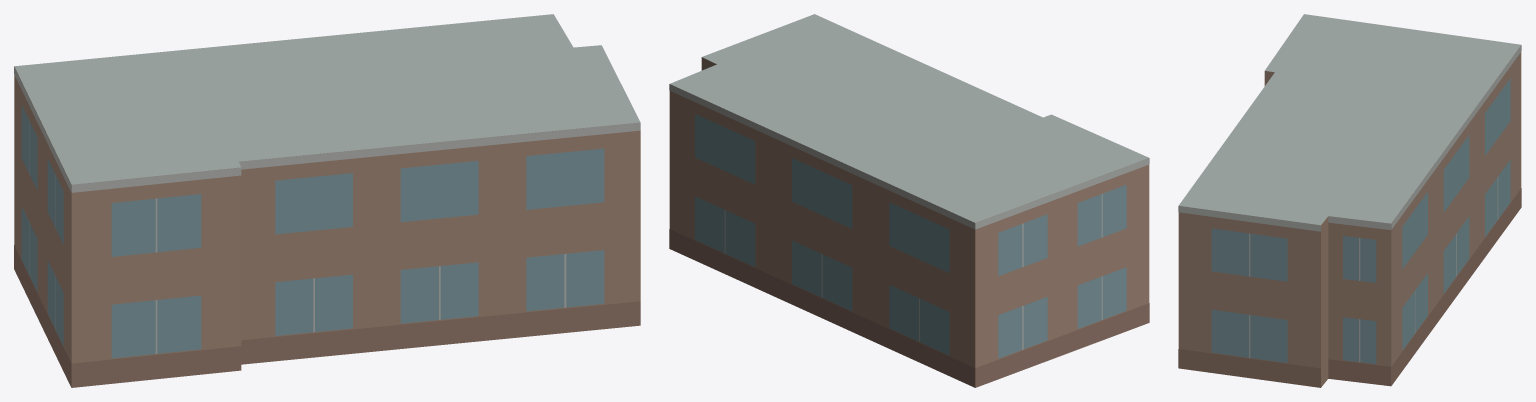
Rendered from survey-upis-32678326.glb.
3 views of the same model, side by side, from view 1: azimuth 30°, elevation 25°; view 2: azimuth 150°, elevation 25°; view 3: azimuth 270°, elevation 25° (orthographic). The views are drawn at different scales.
Visible parts, largest first — view 1: survey-upis-32678326.tmp; view 2: survey-upis-32678326.tmp; view 3: survey-upis-32678326.tmp.
Part boxes in pixels (x1=…): survey-upis-32678326.tmp: x1=14, y1=14, x2=640, y2=387; survey-upis-32678326.tmp: x1=669, y1=14, x2=1149, y2=387; survey-upis-32678326.tmp: x1=1178, y1=14, x2=1521, y2=387.
Bounding box in the file's own units: 17.01 × 6.1 × 11.67.
